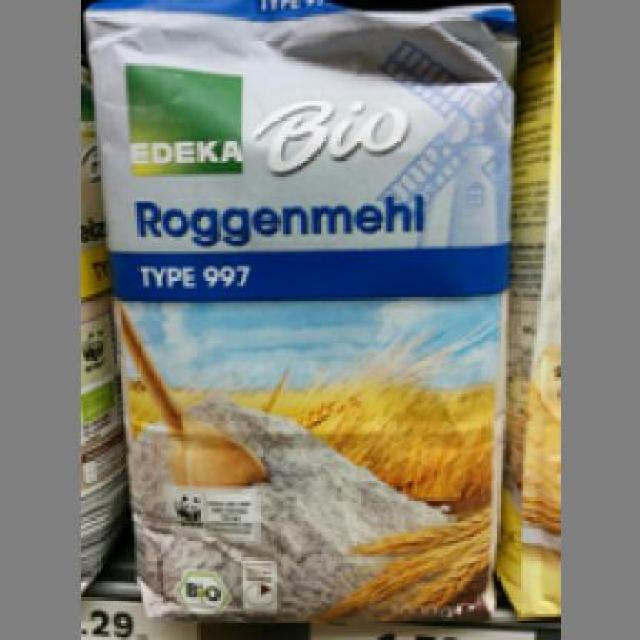Flour: (82, 5, 515, 618)
